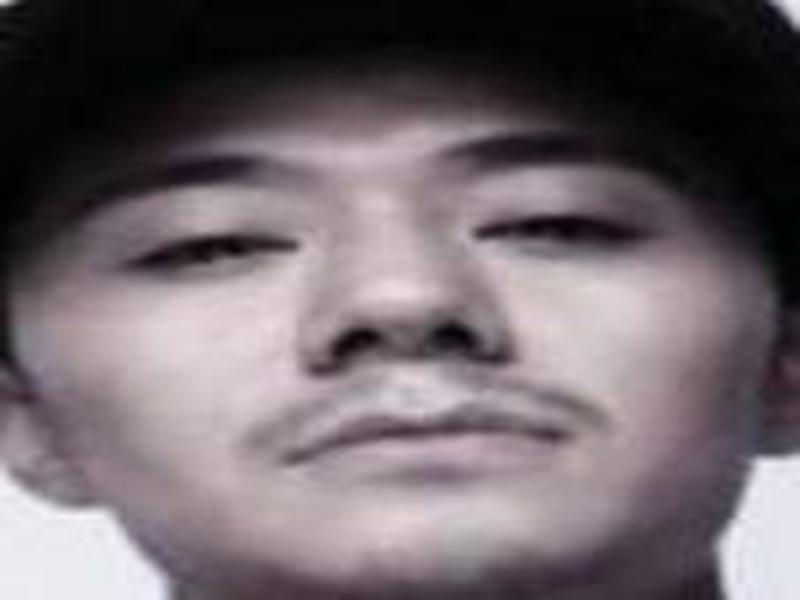without_mask: (17, 116, 761, 585)
